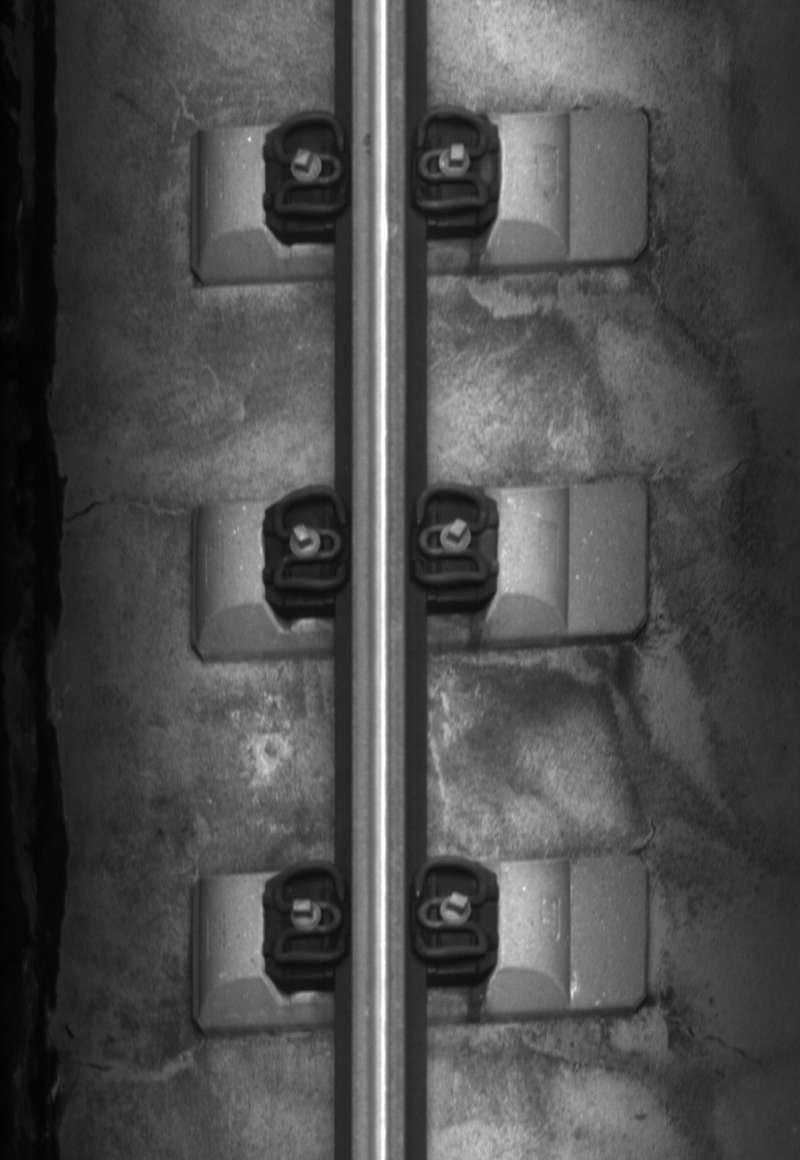l_faster: (266, 108, 352, 221), (267, 481, 352, 595), (268, 858, 350, 969)
r_faster: (408, 851, 494, 968), (407, 478, 494, 592), (412, 105, 492, 215)
